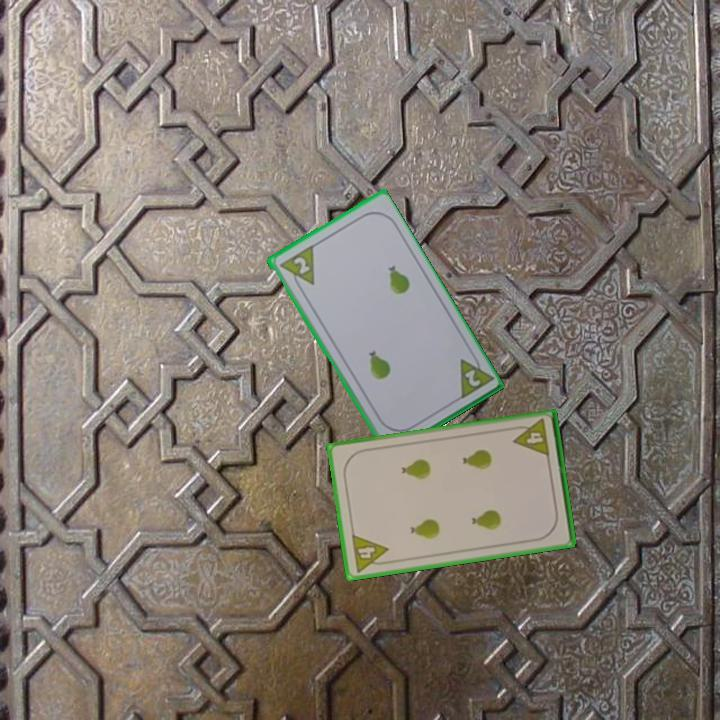2p: (454, 349, 495, 403), (276, 242, 317, 294)
4p: (348, 531, 393, 575), (509, 415, 552, 460)
